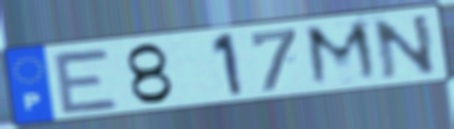1: (209, 30, 246, 100)
7: (247, 27, 299, 93)
8: (125, 41, 176, 106)
E: (49, 47, 123, 117)
M: (301, 18, 383, 90)
N: (369, 11, 440, 82)
